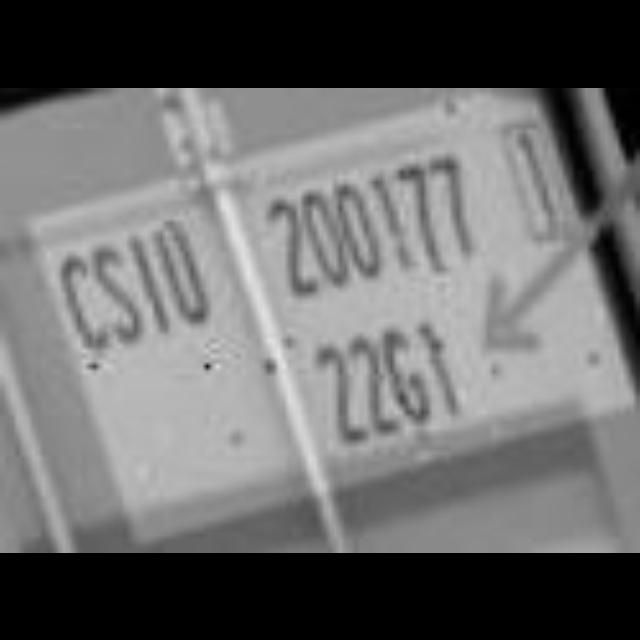0: (332, 180, 386, 284), (373, 170, 423, 276), (304, 187, 352, 293)
1: (508, 117, 578, 245), (415, 314, 475, 420)
2: (310, 335, 376, 451), (343, 328, 407, 442), (265, 192, 323, 304)
7: (425, 146, 491, 262), (394, 165, 451, 278)
c: (56, 250, 114, 356)
g: (378, 322, 438, 430)
i: (121, 232, 179, 338)
s: (90, 241, 148, 349)
u: (152, 218, 218, 329)
